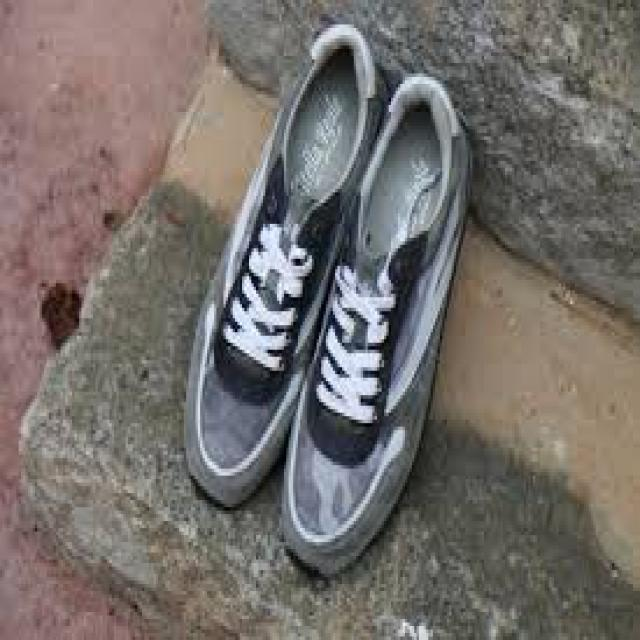shoe: (275, 73, 494, 577), (180, 24, 398, 514)
